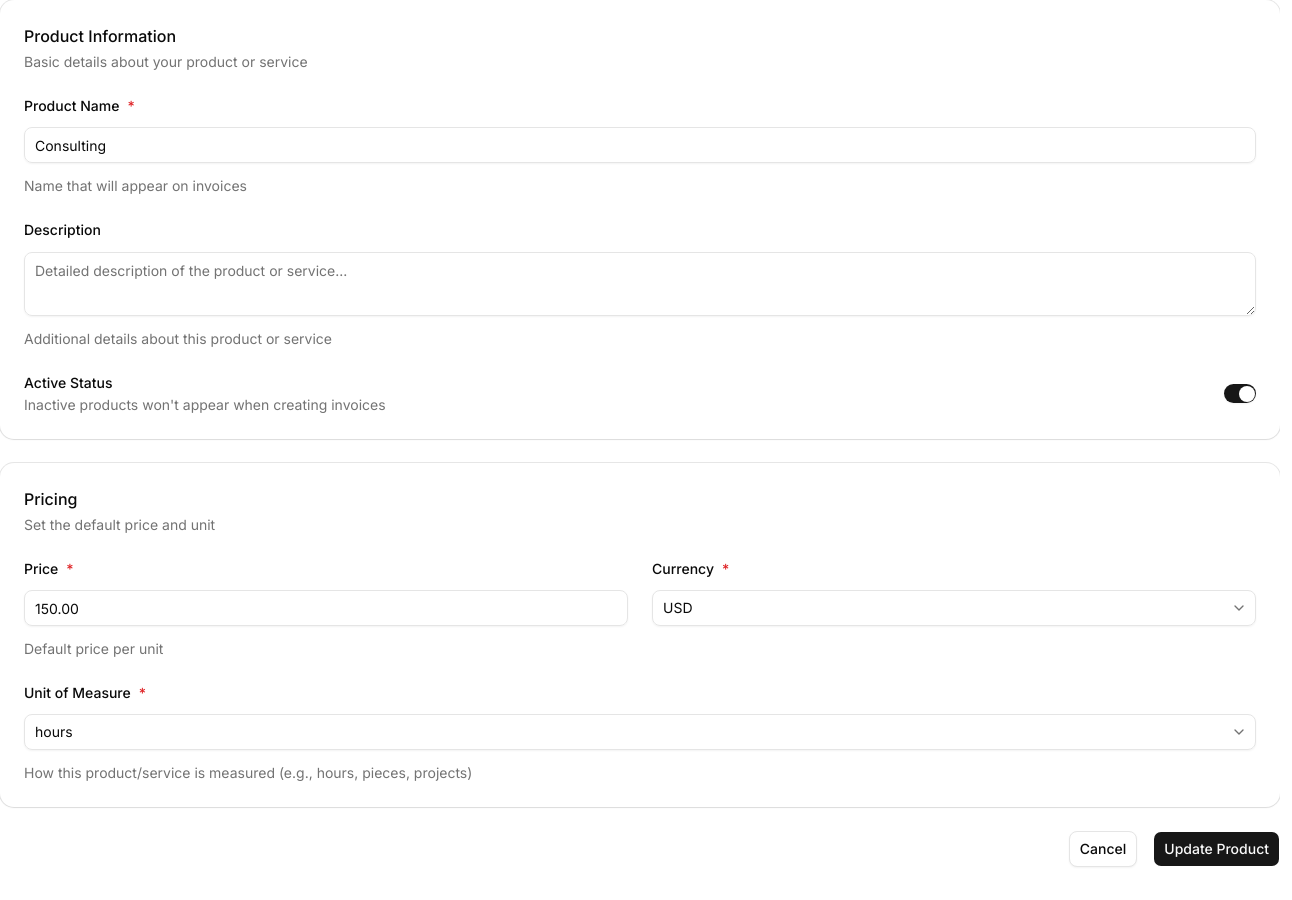
Test: ProductForm — price and currency lock (SCR-12) › price 12abc shows Price must be a number. under the price, nothing sent
Step 1. Replace the text in the field with placeholder "100.00" with "12abc" → (326, 608), box [24, 590, 628, 626]
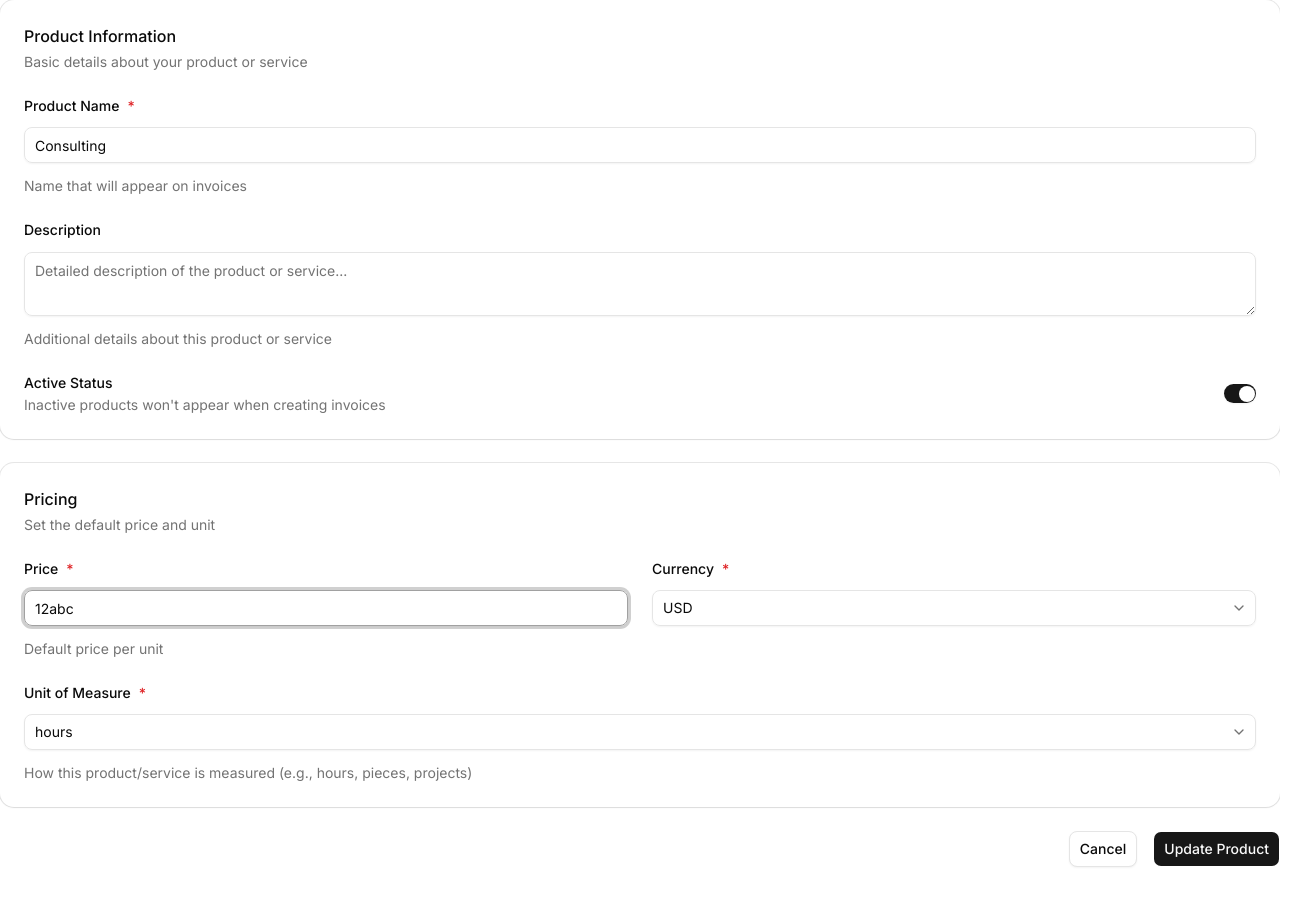
Step 2. Click the button "Update Product" → (1217, 849), box [1153, 831, 1280, 867]
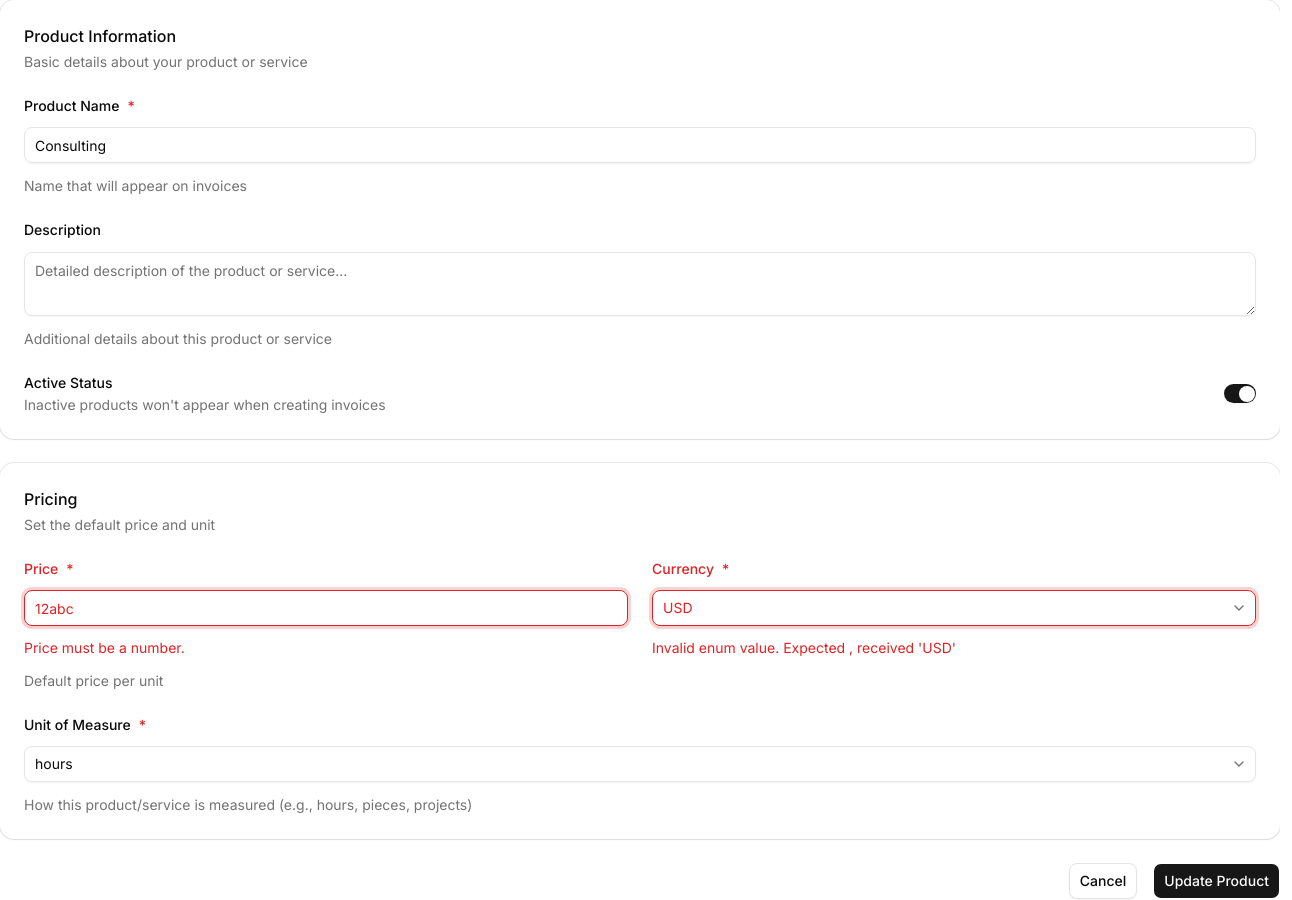
Expected: the text "Price must be a number." is shown, [24, 639, 185, 656]
